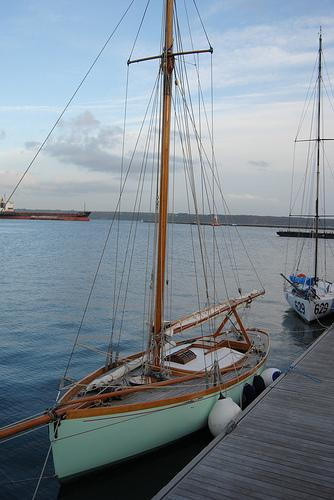Ship: (51, 1, 271, 479), (287, 29, 334, 331), (1, 199, 92, 223)
